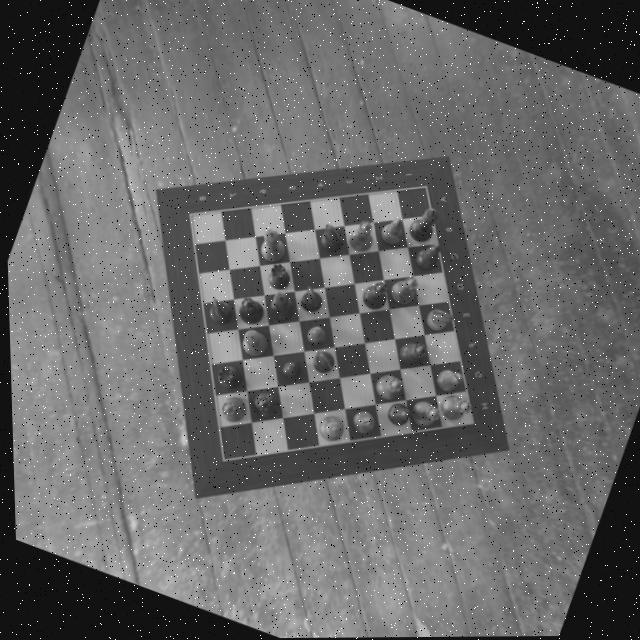chessboard: (187, 190, 472, 461)
